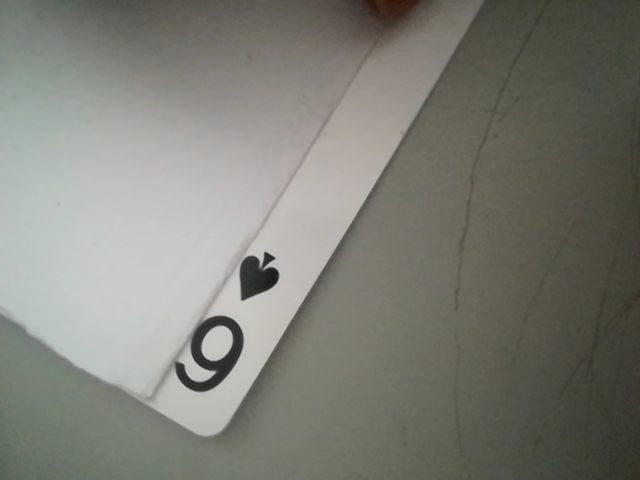ht 6: (160, 241, 288, 423)
